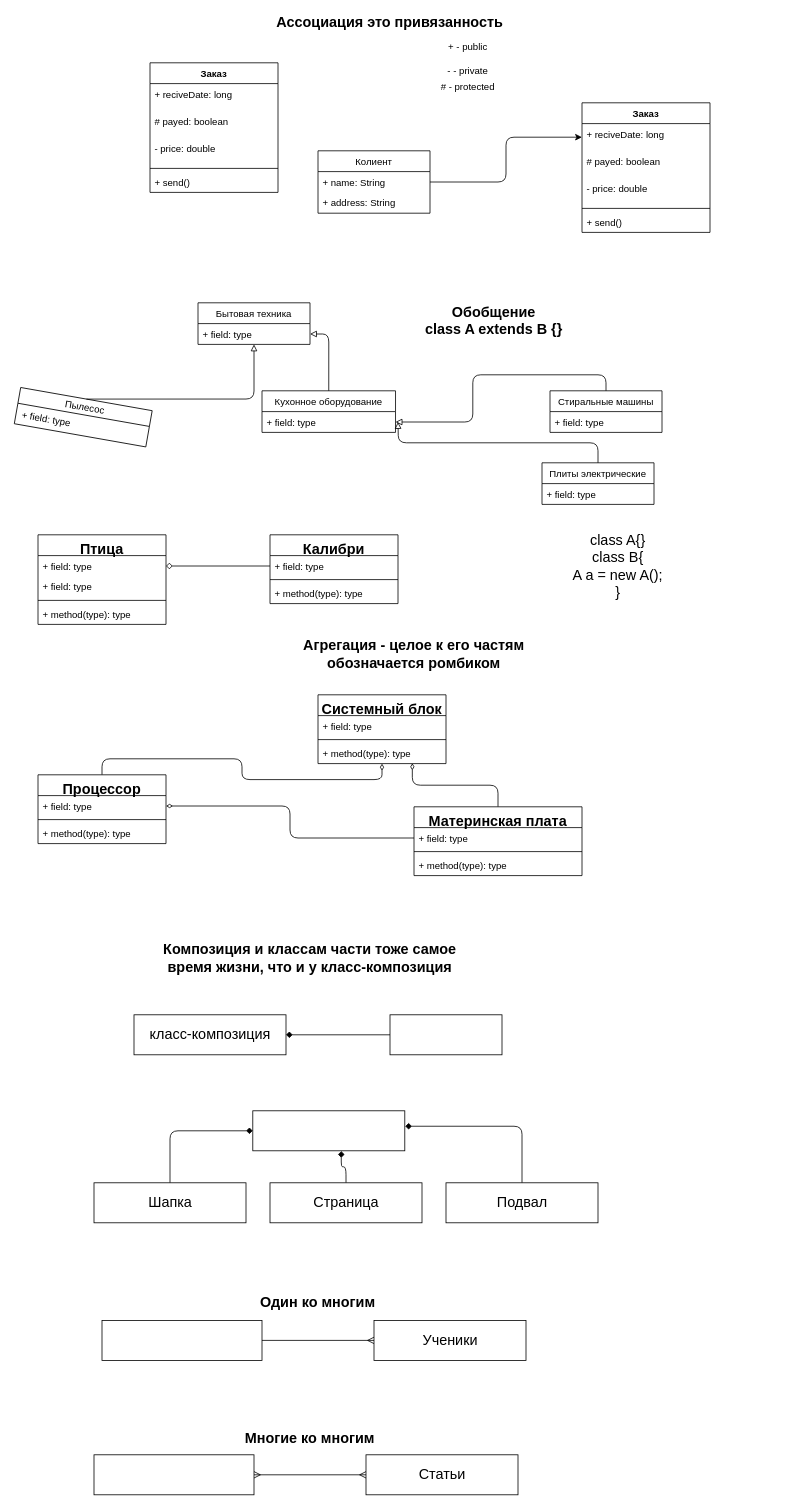
Some shapes in this 788 by 1509 pixel diagram are drawn without their labels. Each missing label, with the centre of its shape:
класс-часть: (x=445, y=1034)
Сайт: (x=328, y=1130)
Теги: (x=173, y=1474)
Учитель: (x=181, y=1340)
